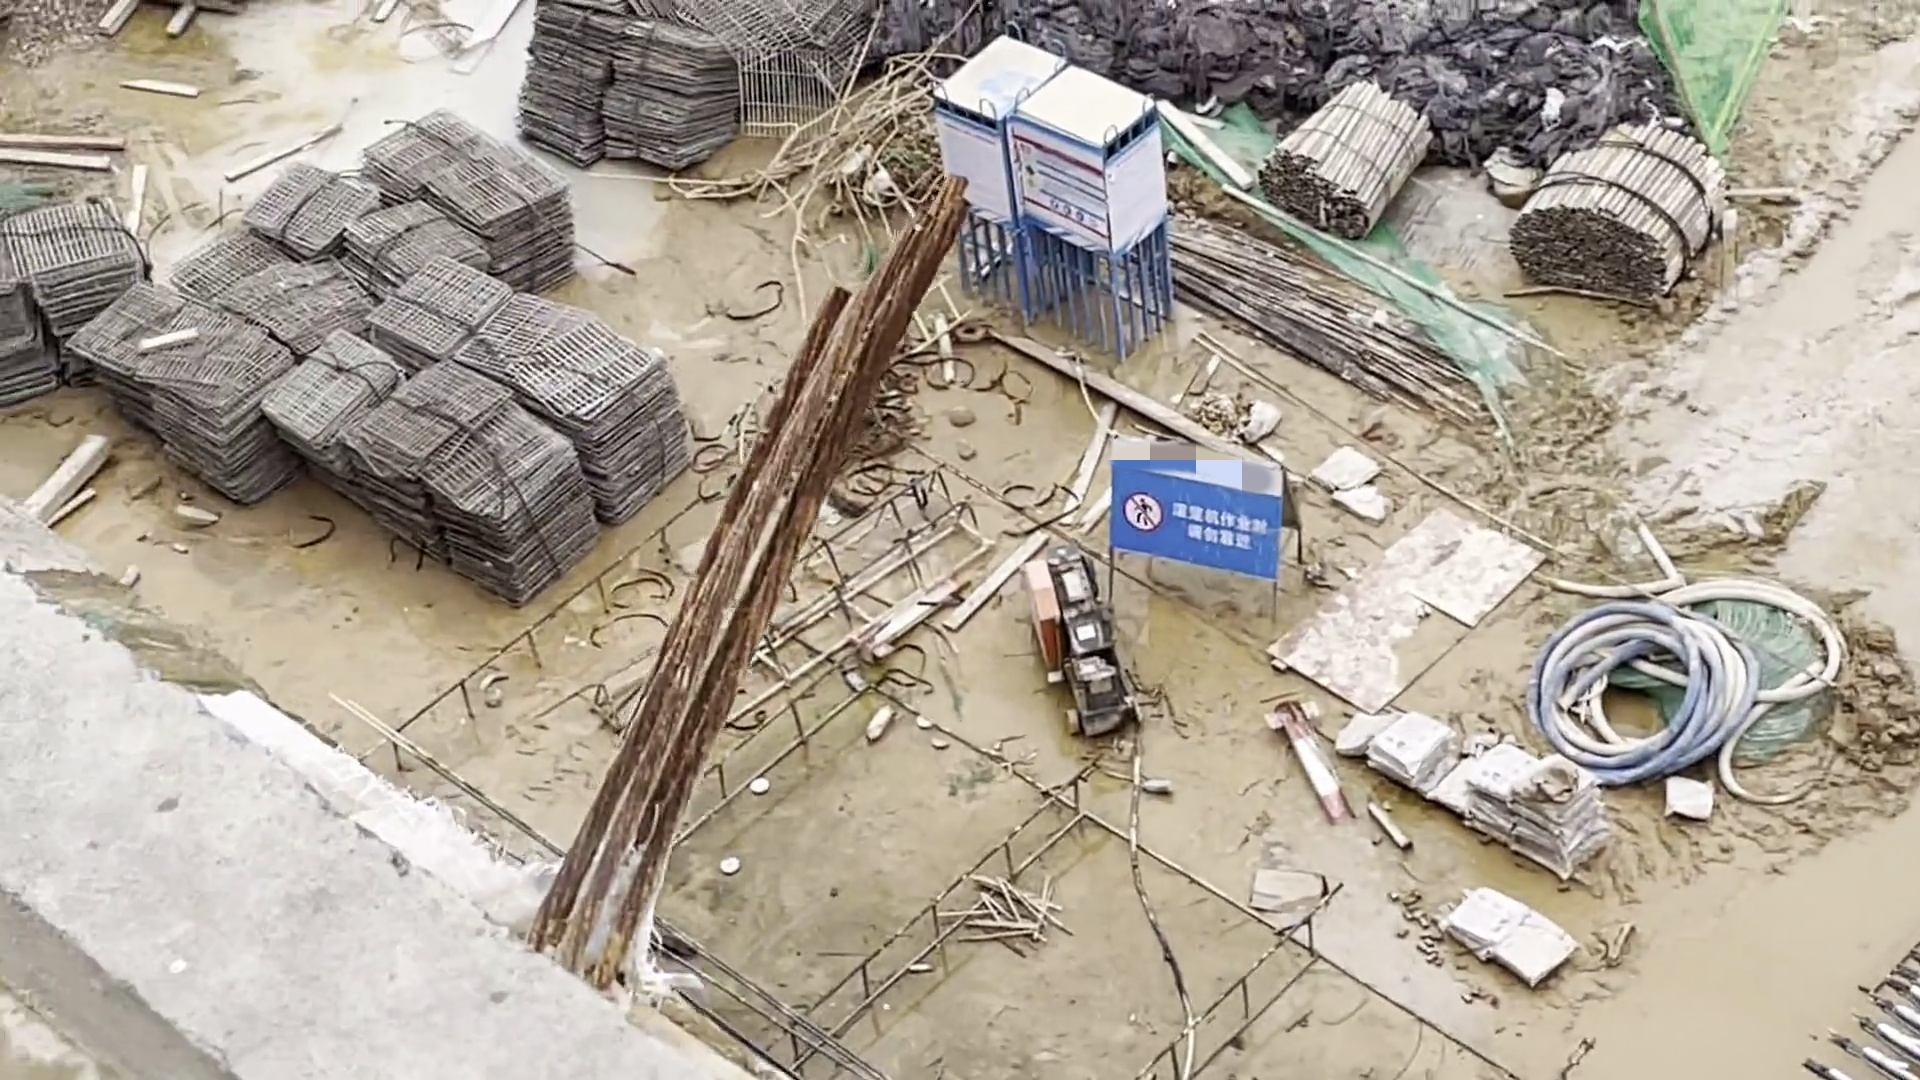slogan: (1110, 469, 1280, 576)
wood: (1509, 116, 1725, 311), (1249, 80, 1429, 237)
